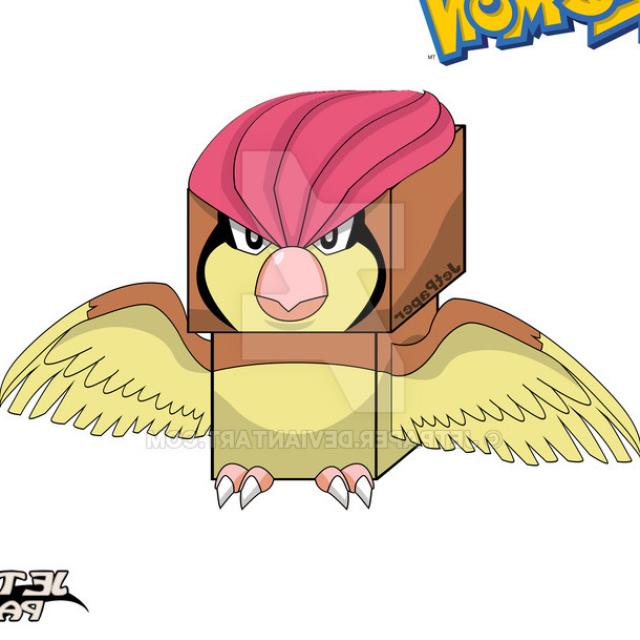Pidgeotto: (164, 81, 482, 518)
